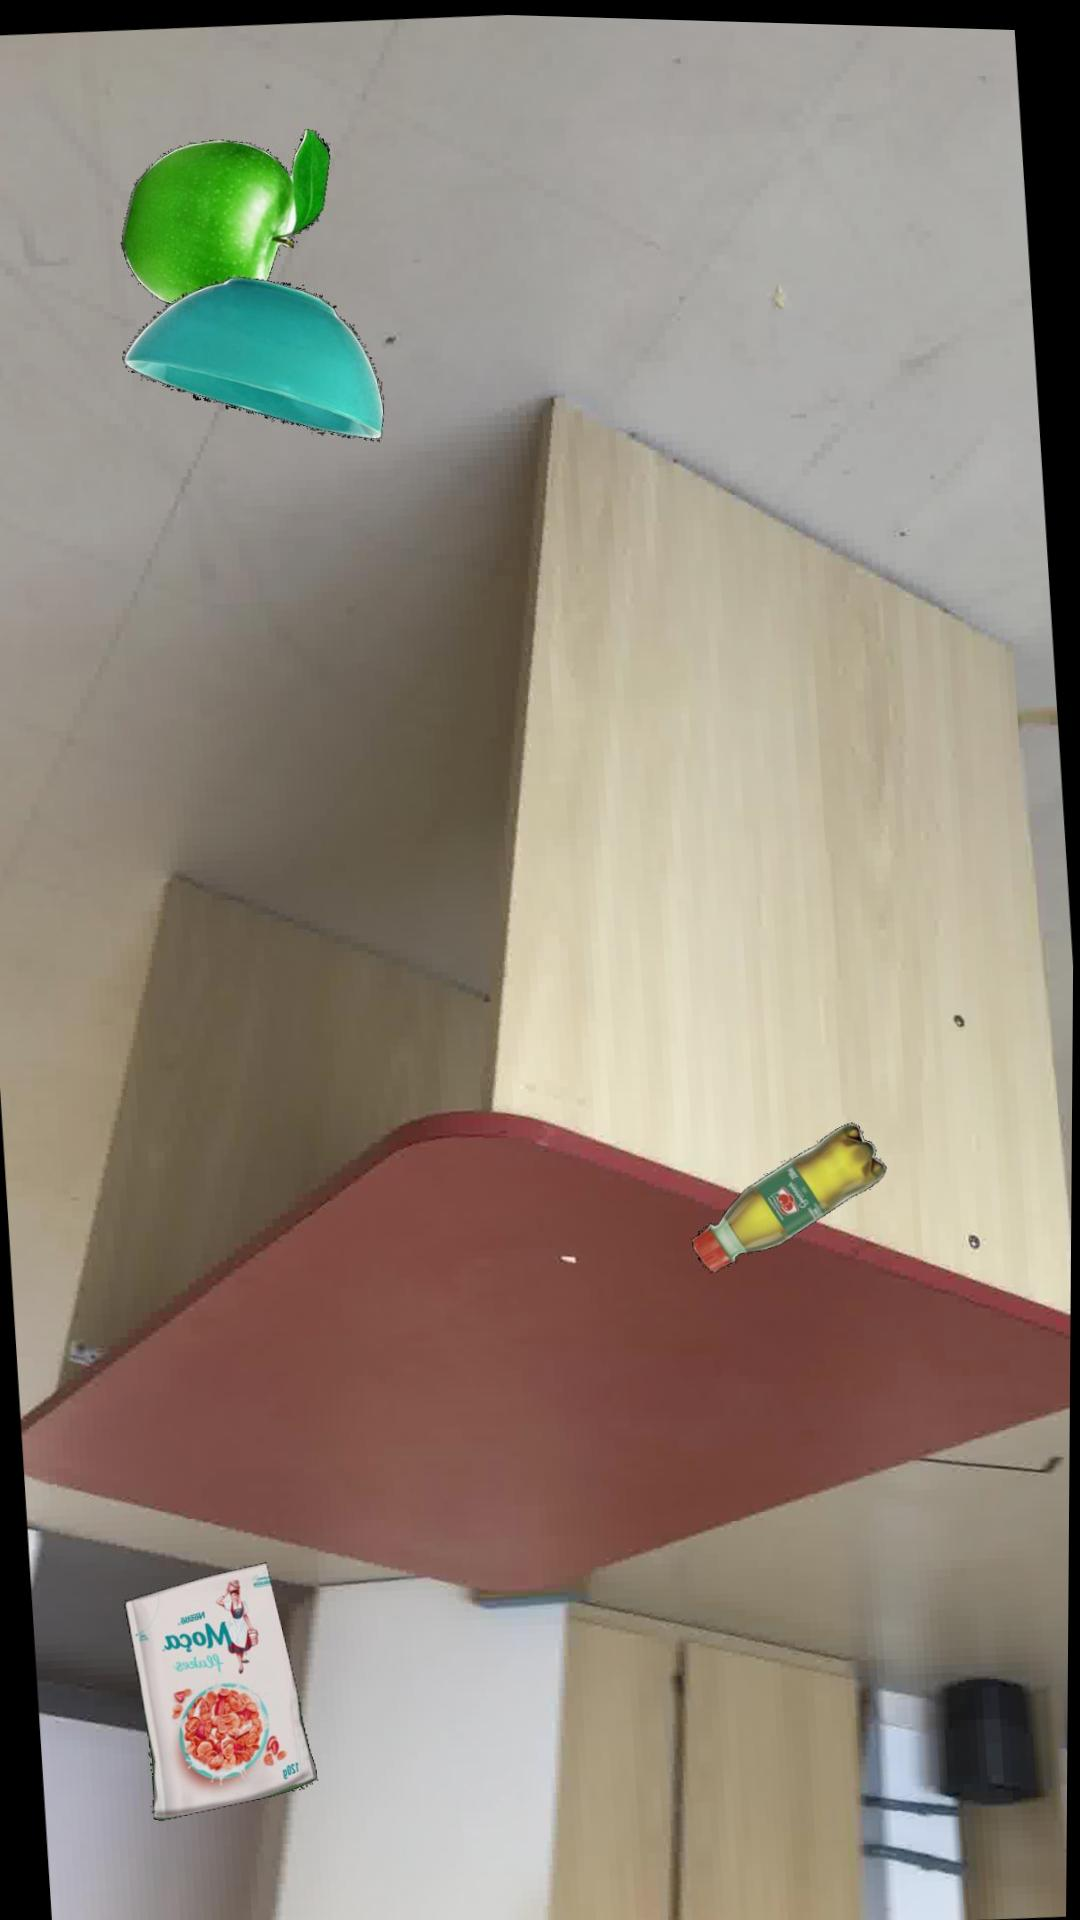bowl: (121, 277, 382, 439)
corn flakes: (125, 1561, 318, 1821)
green apple: (119, 129, 328, 305)
guarana: (692, 1118, 886, 1270)
